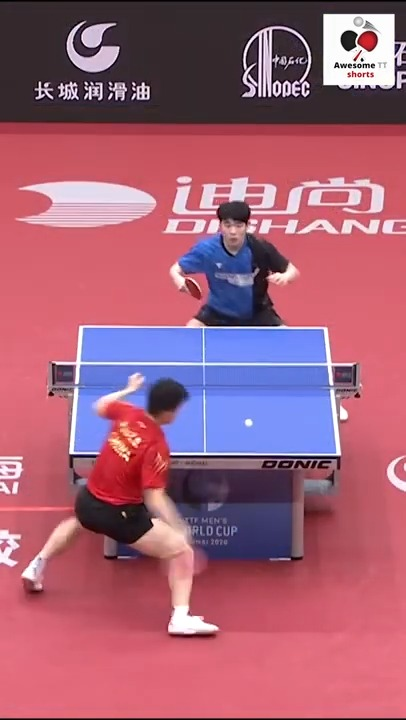Ball: (243, 414, 253, 429)
